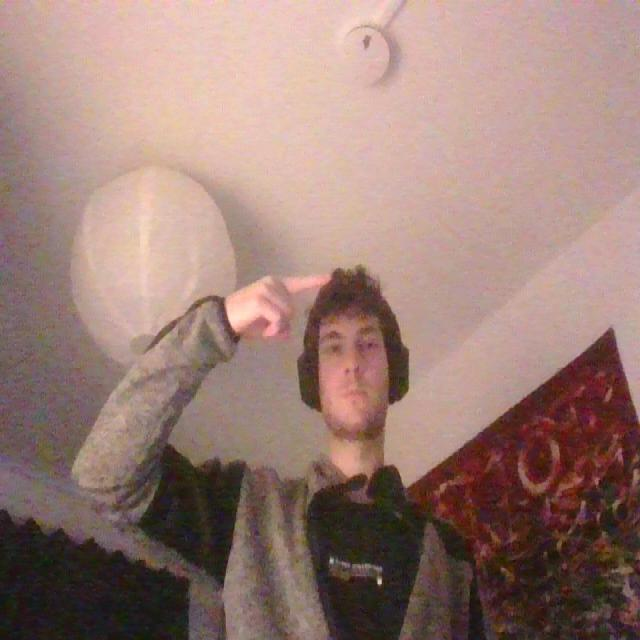right: (218, 265, 336, 350)
